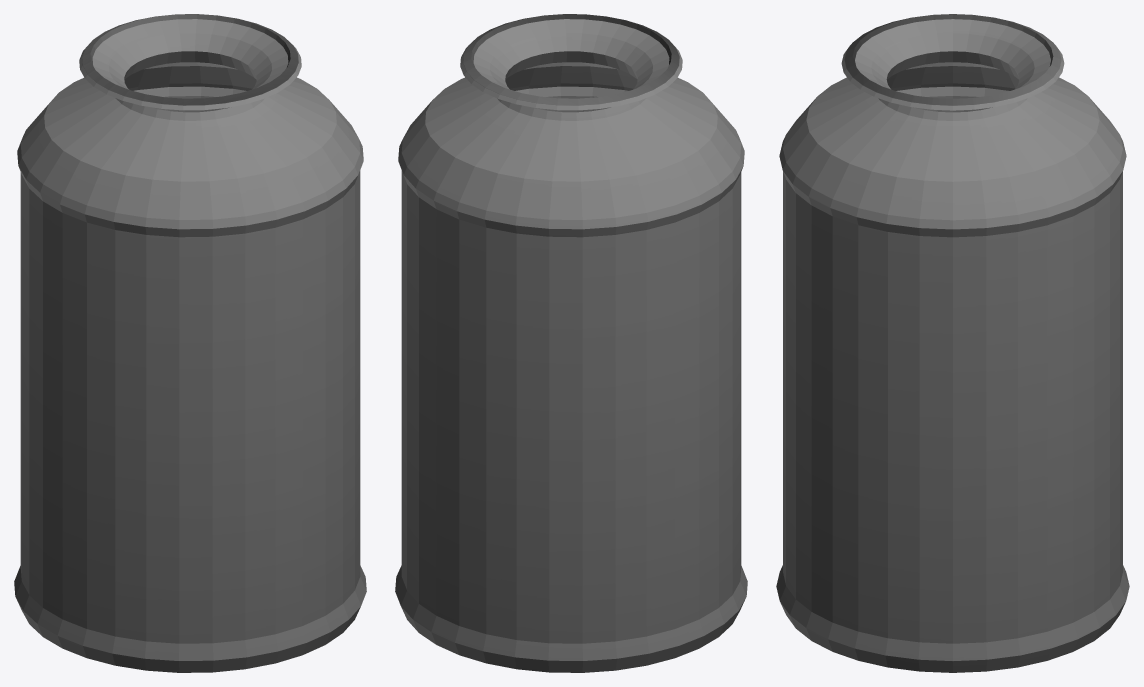
File: KanAndOilMaya2.fbx
3 renders of one model, left to right at view 1: azimuth 30°, elevation 25°; view 2: azimuth 150°, elevation 25°; view 3: azimuth 270°, elevation 25°, orthographic.
Parts seen in each view (by area): view 1: Kann1; view 2: Kann1; view 3: Kann1.
Boxes of the visible parts, <box> form: Kann1: <box>14,14,366,672</box>; Kann1: <box>395,14,747,672</box>; Kann1: <box>776,14,1129,672</box>.
Bounding box in the file's own units: 208 × 353 × 208.
Materials: 2 (2 with a texture image).
